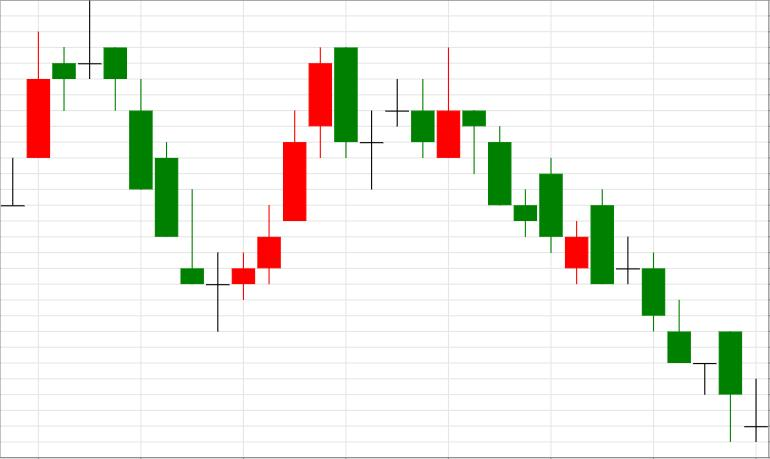bearish_engulfing_fall: (231, 48, 358, 300)
